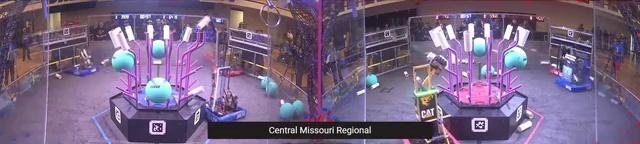reef: (428, 22, 527, 141), (109, 24, 204, 144)
robot: (402, 55, 458, 144), (203, 65, 246, 122), (556, 55, 592, 93), (66, 49, 99, 78), (214, 45, 244, 76), (552, 45, 567, 78)
